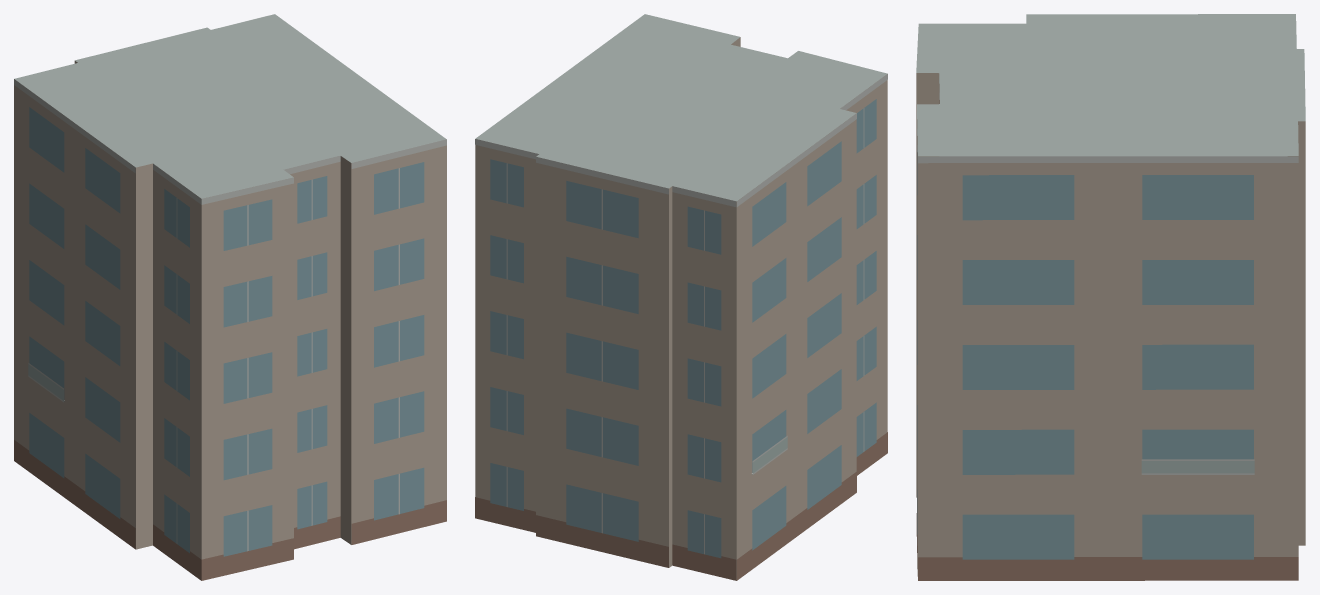
Rendered from survey-upis-32520136.glb.
3 renders of one model, left to right at view 1: azimuth 30°, elevation 25°; view 2: azimuth 150°, elevation 25°; view 3: azimuth 270°, elevation 25°, orthographic. The views are drawn at different scales.
Visible parts, largest first — view 1: survey-upis-32520136.tmp; view 2: survey-upis-32520136.tmp; view 3: survey-upis-32520136.tmp.
Part boxes in pixels (box(x1,y1,x2,y2)): survey-upis-32520136.tmp: box(14, 14, 446, 580); survey-upis-32520136.tmp: box(475, 14, 887, 580); survey-upis-32520136.tmp: box(916, 14, 1305, 580).
Bounding box in the file's own units: 11.07 × 15.3 × 12.74.
